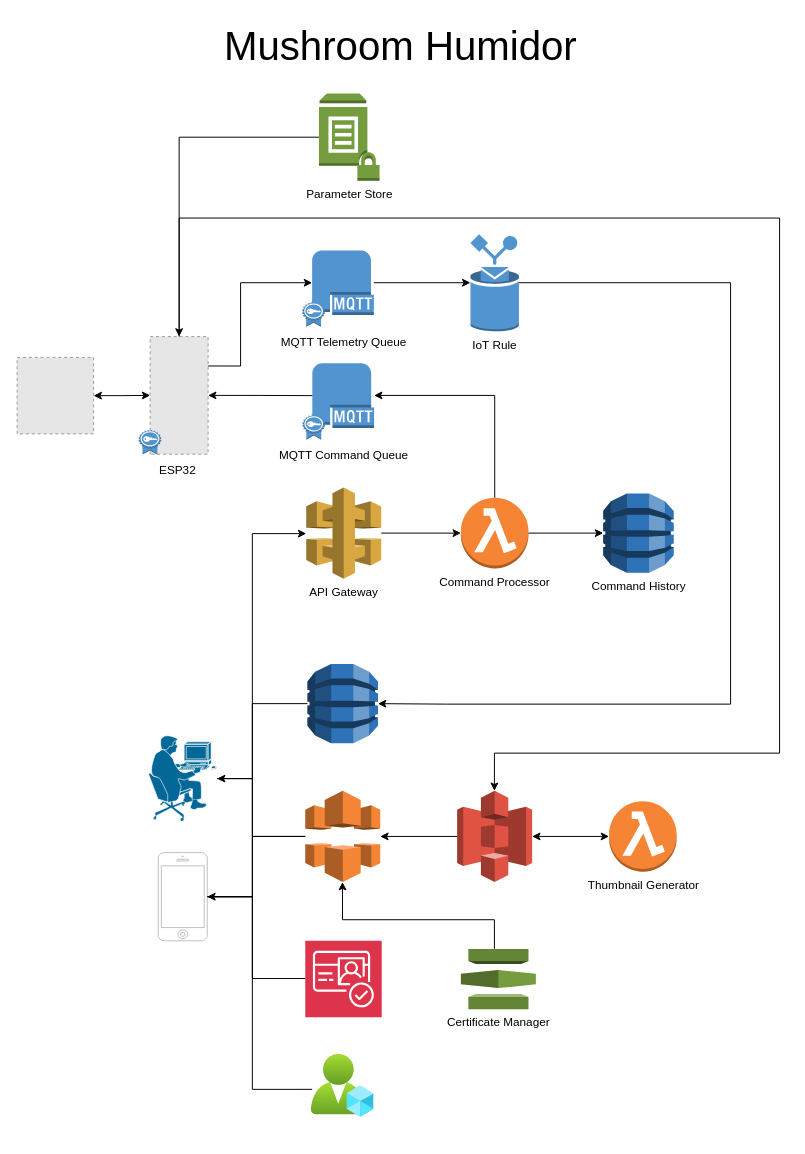
This 805x1154 diagram has some shape labels left out. Grey dashed boxes stand in for pictures. The box of each missing label's shape, as (x1, y1, x2, y2) in pixels:
Cloudfront: (304, 790, 380, 882)
Identity Pool: (311, 1054, 374, 1117)
S3: (456, 790, 532, 882)
Telemetry: (306, 663, 378, 743)
User Pool: (304, 940, 382, 1017)
